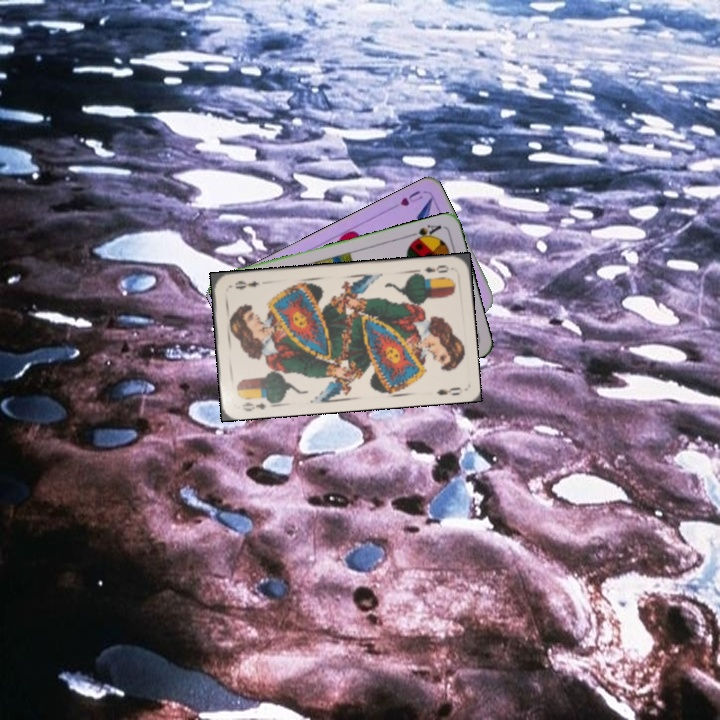EO: (238, 393, 276, 414), (420, 261, 451, 276)
HU: (396, 186, 425, 209)
SA: (405, 221, 444, 246)
